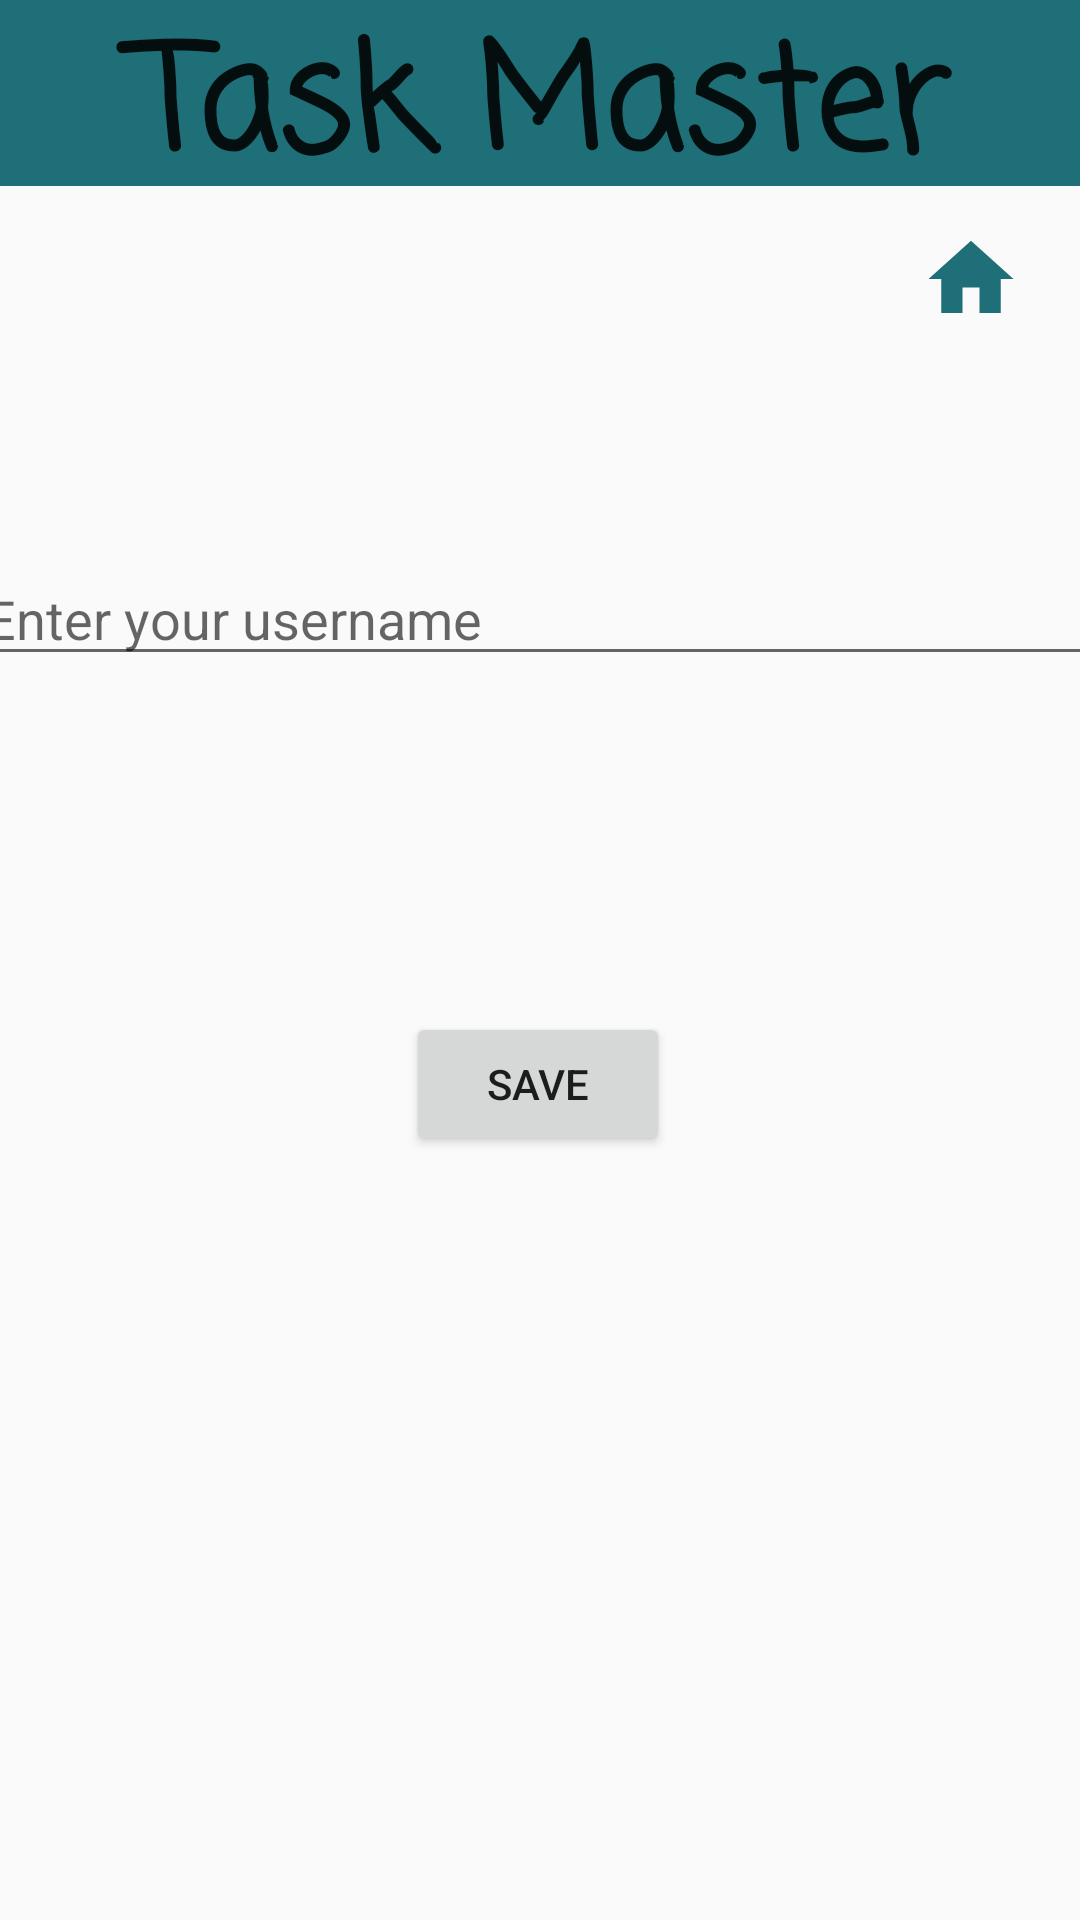

Icons on this 1080 × 1920 Android screen, each with its box as (x1, y1, x2, y2):
home: (929, 241, 1013, 313)
